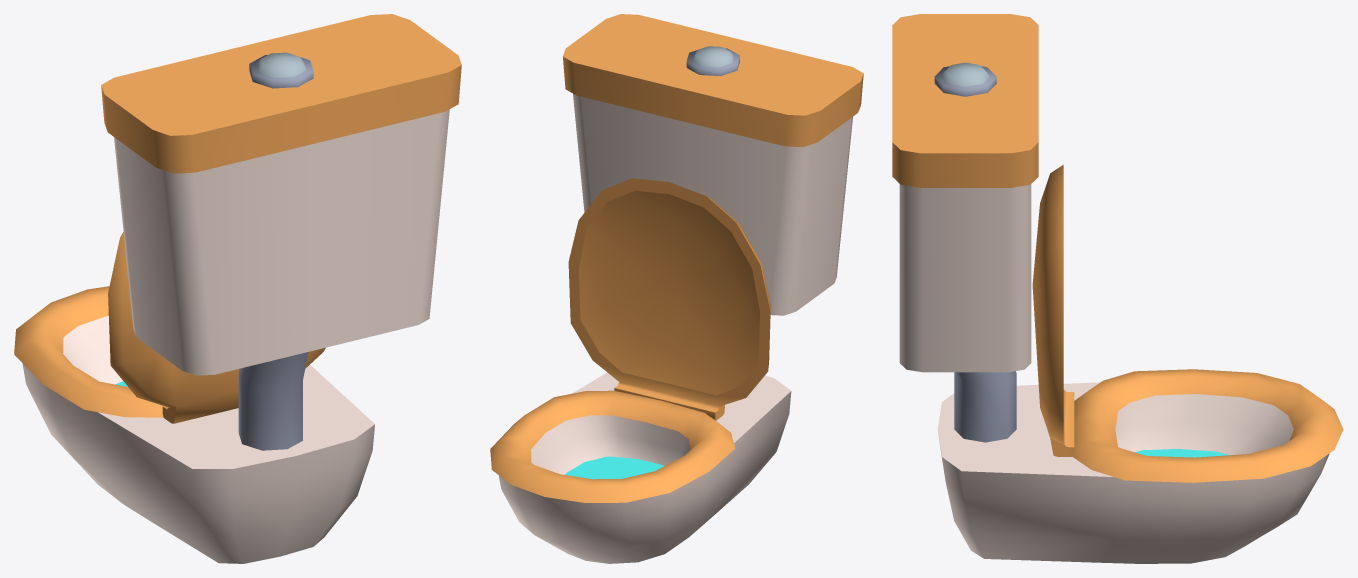
The model's file is Toilet_geo.fbx.
3 renders of one model, left to right at view 1: azimuth 30°, elevation 25°; view 2: azimuth 150°, elevation 25°; view 3: azimuth 270°, elevation 25°, orthographic. The views are drawn at different scales.
Parts seen in each view (by area): view 1: Toilet_geo; view 2: Toilet_geo; view 3: Toilet_geo.
Part boxes in pixels (left/top/right/bottom): Toilet_geo: left=14, top=14, right=461, bottom=563; Toilet_geo: left=490, top=14, right=863, bottom=563; Toilet_geo: left=892, top=14, right=1343, bottom=563.
Bounding box in the file's own units: 0.9514 × 1.3 × 1.48.
